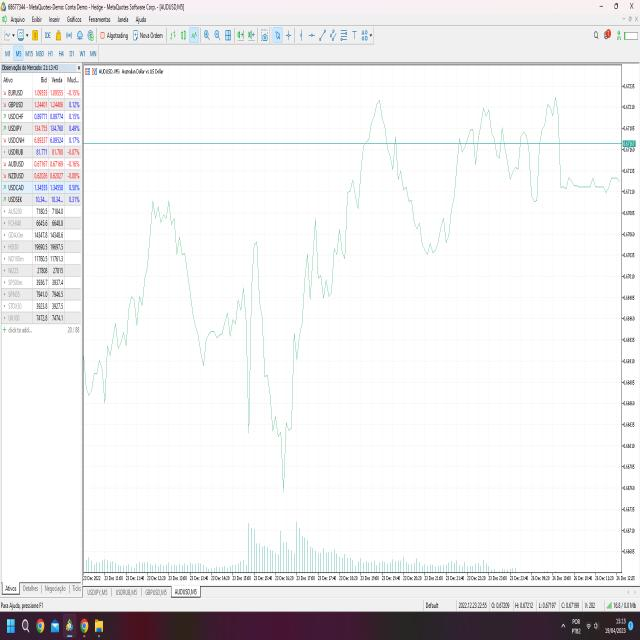oco: (446, 99, 514, 207)
oco_inv: (258, 318, 303, 514)
